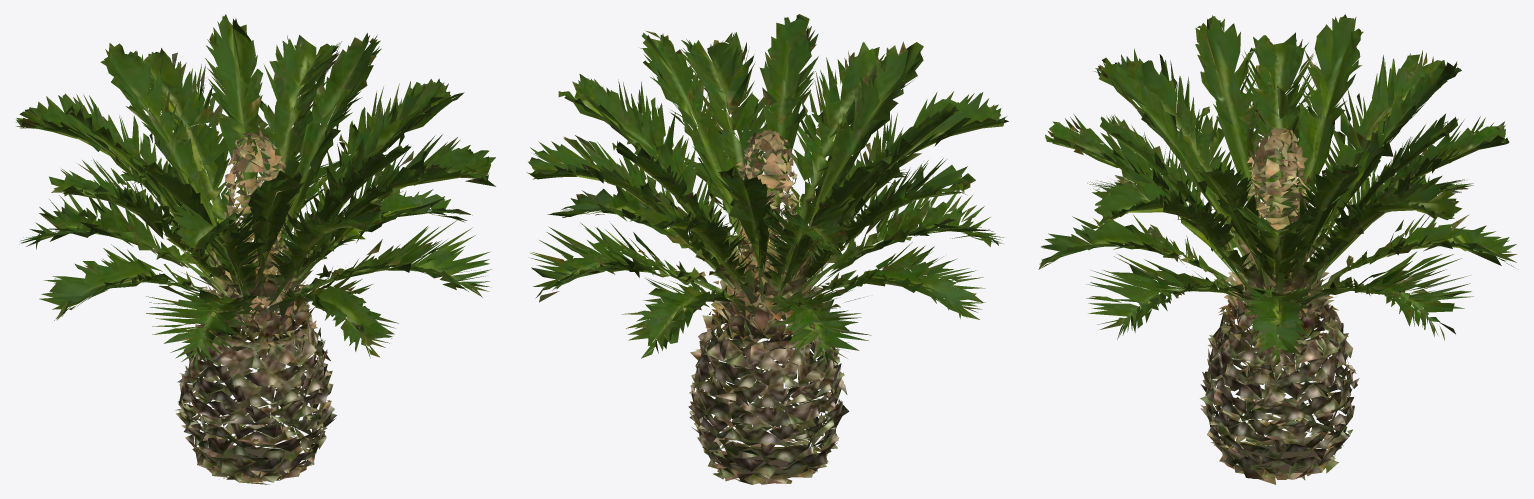
File: cycad2.glb
3 renders of one model, left to right at view 1: azimuth 30°, elevation 25°; view 2: azimuth 150°, elevation 25°; view 3: azimuth 270°, elevation 25°, orthographic.
Parts seen in each view (by area): view 1: Mesh_0; view 2: Mesh_0; view 3: Mesh_0.
Part boxes in pixels (bbox=[...]): Mesh_0: bbox=[16, 14, 495, 484]; Mesh_0: bbox=[526, 14, 1008, 484]; Mesh_0: bbox=[1038, 14, 1518, 484].
Bounding box in the file's own units: 0.9968 × 0.8574 × 0.9964.
Materials: 1 (1 with a texture image).
